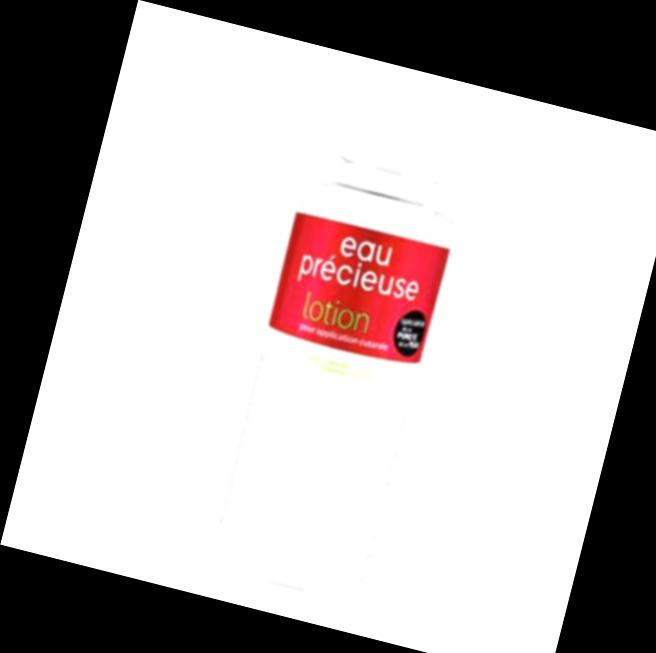cosmetic: (210, 89, 480, 585)
